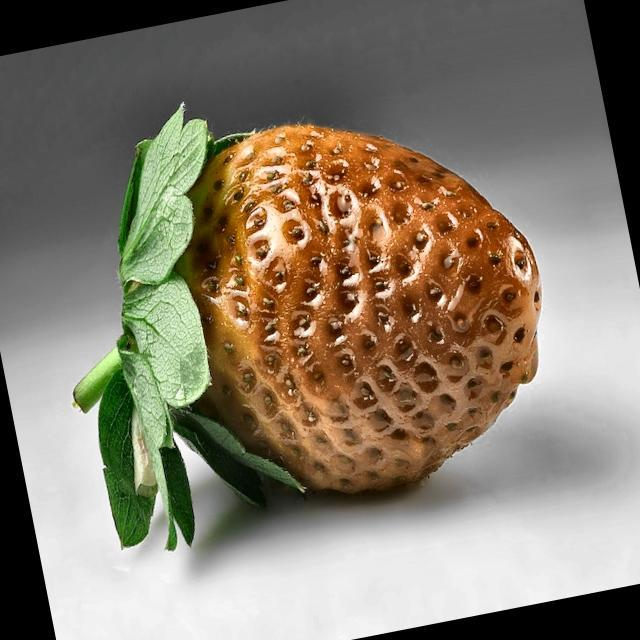strawberry: (74, 105, 541, 548)
